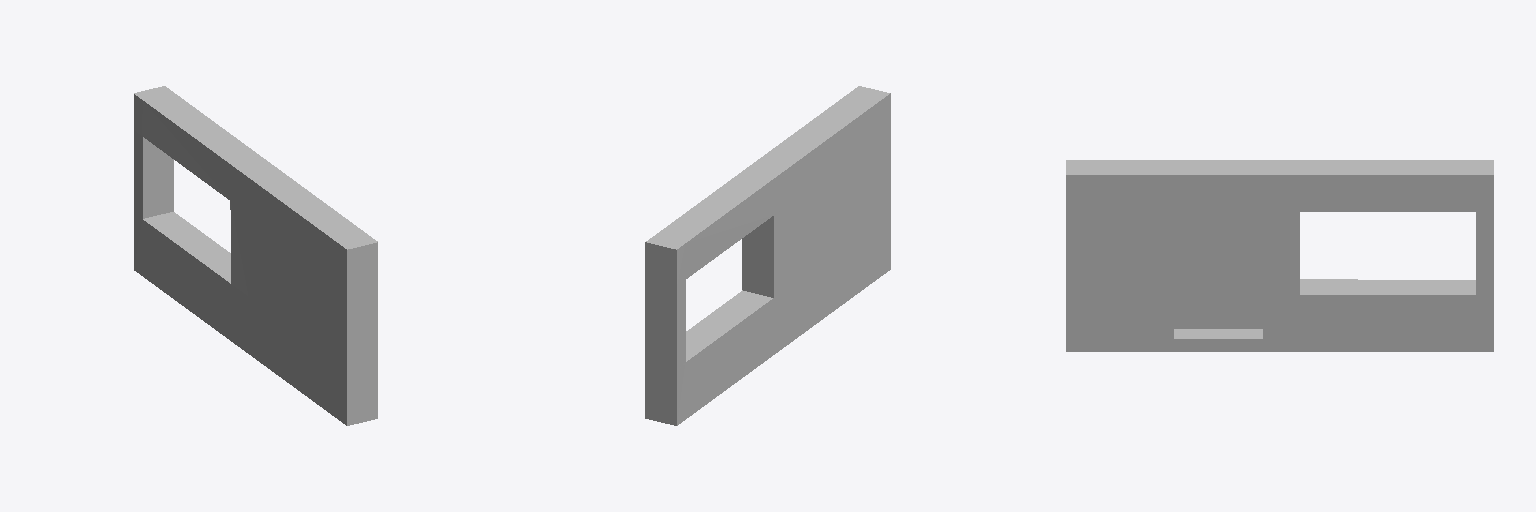
The model's file is frontSideWallHP.obj.
The picture shows the model from 3 angles: view 1: azimuth 30°, elevation 25°; view 2: azimuth 150°, elevation 25°; view 3: azimuth 270°, elevation 25°; orthographic projection.
Visible parts, largest first — view 1: default; view 2: default; view 3: default.
Boxes of the visible parts, x1,y1,x2,y2 form: default: [134, 86, 377, 425]; default: [645, 86, 890, 425]; default: [1066, 160, 1493, 351].
Bounding box in the file's own units: 1.19 × 6.41 × 14.07.